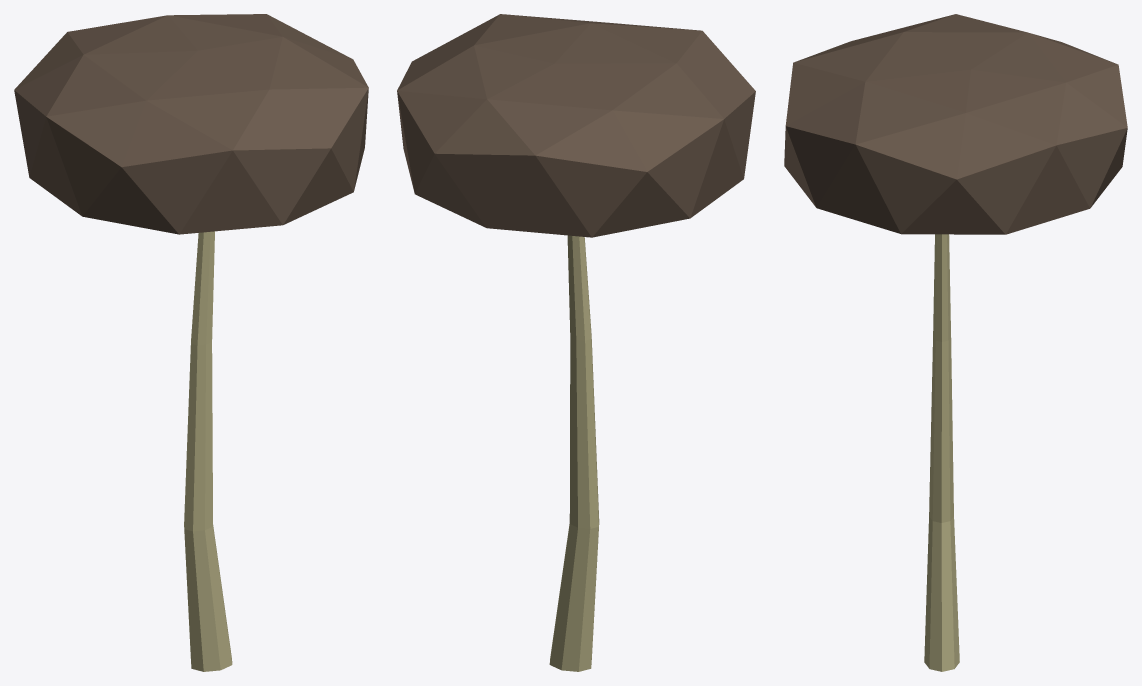
File: flat_mushroom_tall_brown.fbx
3 renders of one model, left to right at view 1: azimuth 30°, elevation 25°; view 2: azimuth 150°, elevation 25°; view 3: azimuth 270°, elevation 25°, orthographic. The views are drawn at different scales.
Visible parts, largest first — view 1: flat_mushroom_tall_brown; view 2: flat_mushroom_tall_brown; view 3: flat_mushroom_tall_brown.
Part boxes in pixels (x1,y1,x2,y2): flat_mushroom_tall_brown: (14, 14, 368, 671); flat_mushroom_tall_brown: (397, 14, 755, 671); flat_mushroom_tall_brown: (784, 14, 1127, 671).
Bounding box in the file's own units: 61.03 × 114 × 59.95.
